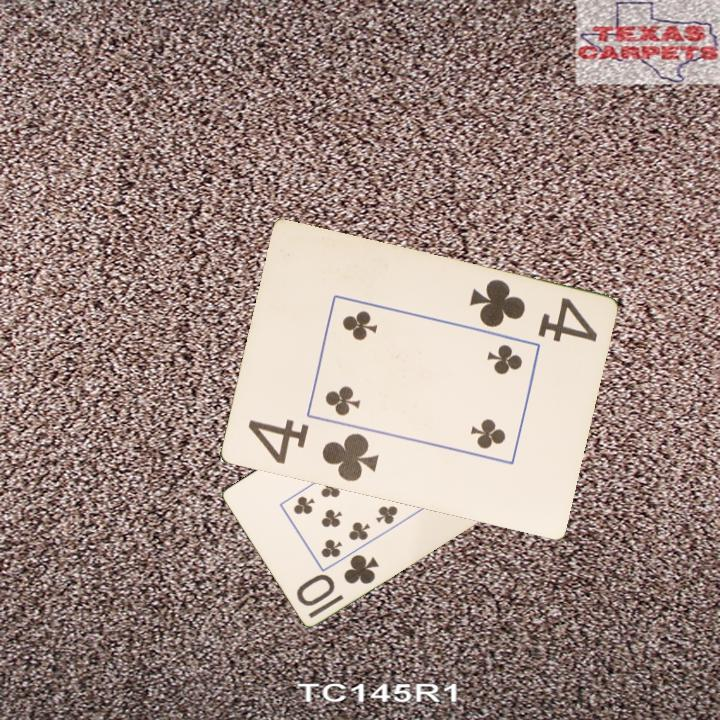10c: (293, 550, 383, 609)
4c: (244, 416, 381, 485), (465, 276, 600, 345)
